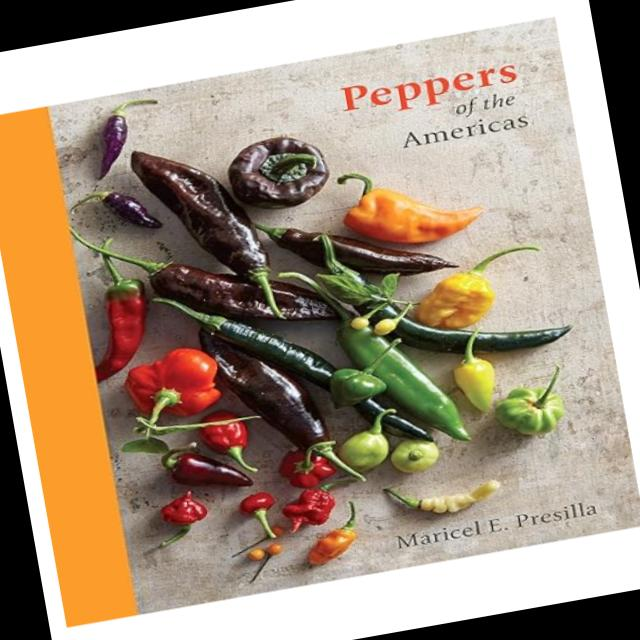titles-or-authors: (325, 48, 548, 168), (388, 491, 610, 559)
